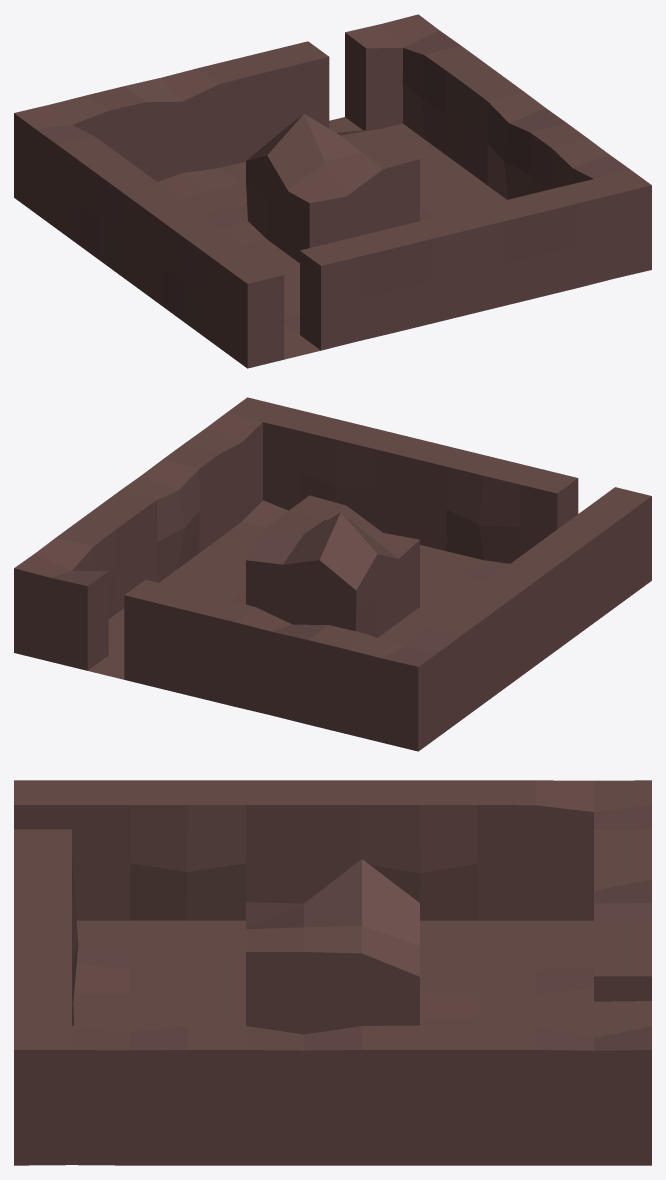
The model's file is sneakchamber1.fbx.
3 renders of one model, top to bottom at view 1: azimuth 30°, elevation 25°; view 2: azimuth 150°, elevation 25°; view 3: azimuth 270°, elevation 25°, orthographic. The views are drawn at different scales.
Visible parts, largest first — view 1: Plane, Door.001; view 2: Plane, Door; view 3: Plane.
Part boxes in pixels (bbox=[...]): Plane: bbox=[14, 14, 651, 368]; Door.001: bbox=[284, 335, 320, 359]; Plane: bbox=[14, 397, 651, 751]; Door: bbox=[88, 655, 124, 679]; Plane: bbox=[14, 780, 651, 1165].
Size of the model in its own units: 2000 by 552 by 2000.
